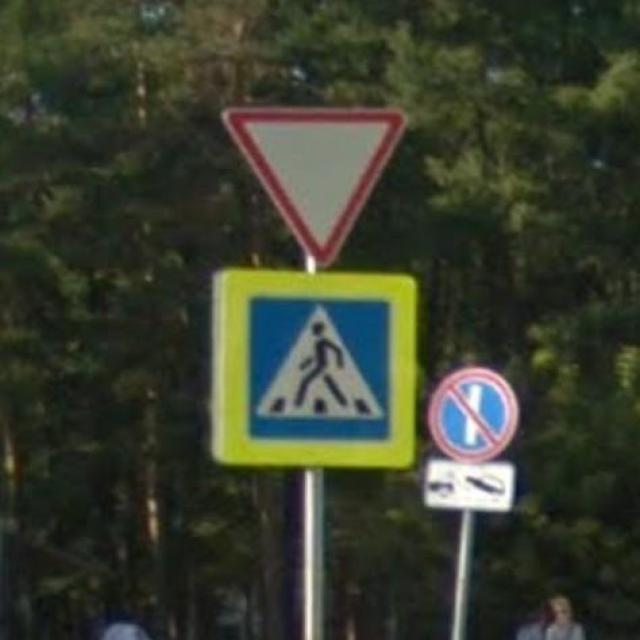crosswalk: (206, 266, 422, 475)
give_way: (220, 102, 408, 268)
